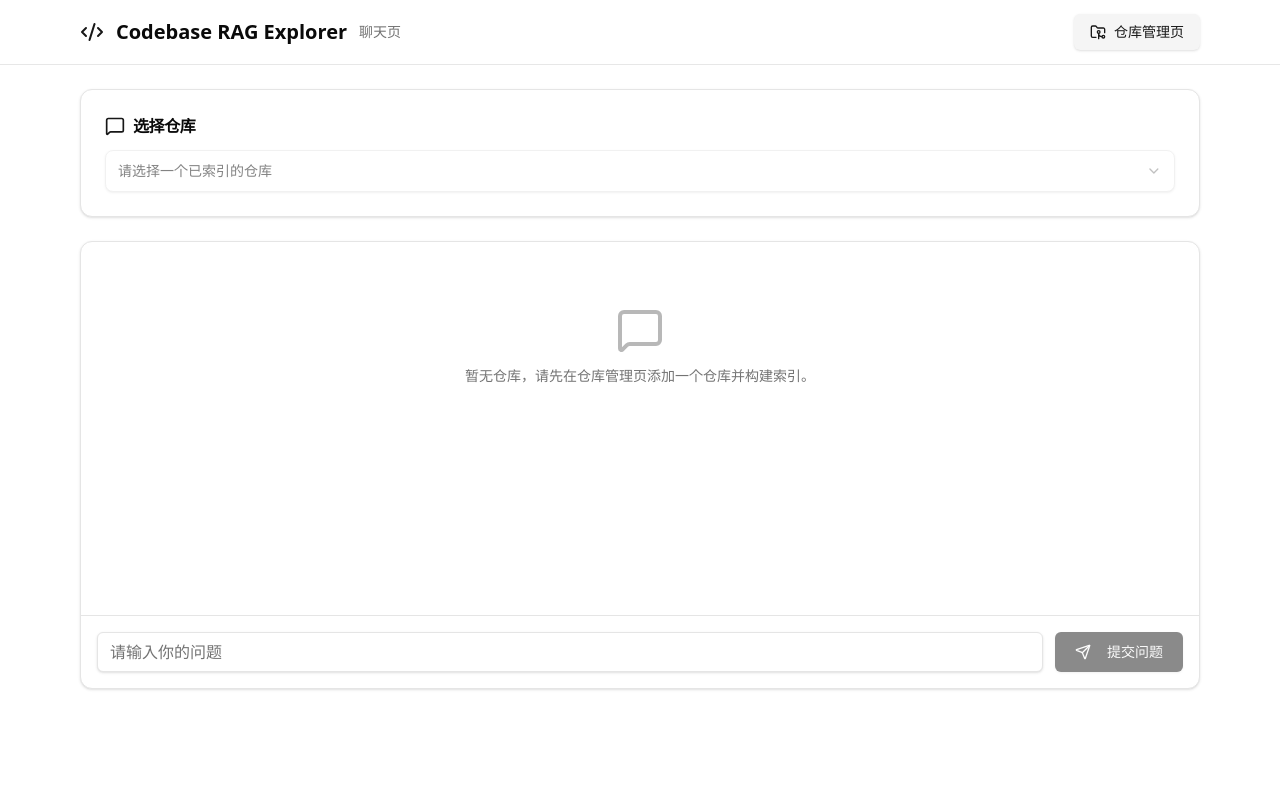
Test case: ChatPage › saves user message and assistant response to chat history
Expected: the dropdown is shown, [105, 150, 1175, 192]
Type "New question" into the field with placeholder "请输入你的问题" at coordinates (570, 652), box [97, 632, 1043, 672]
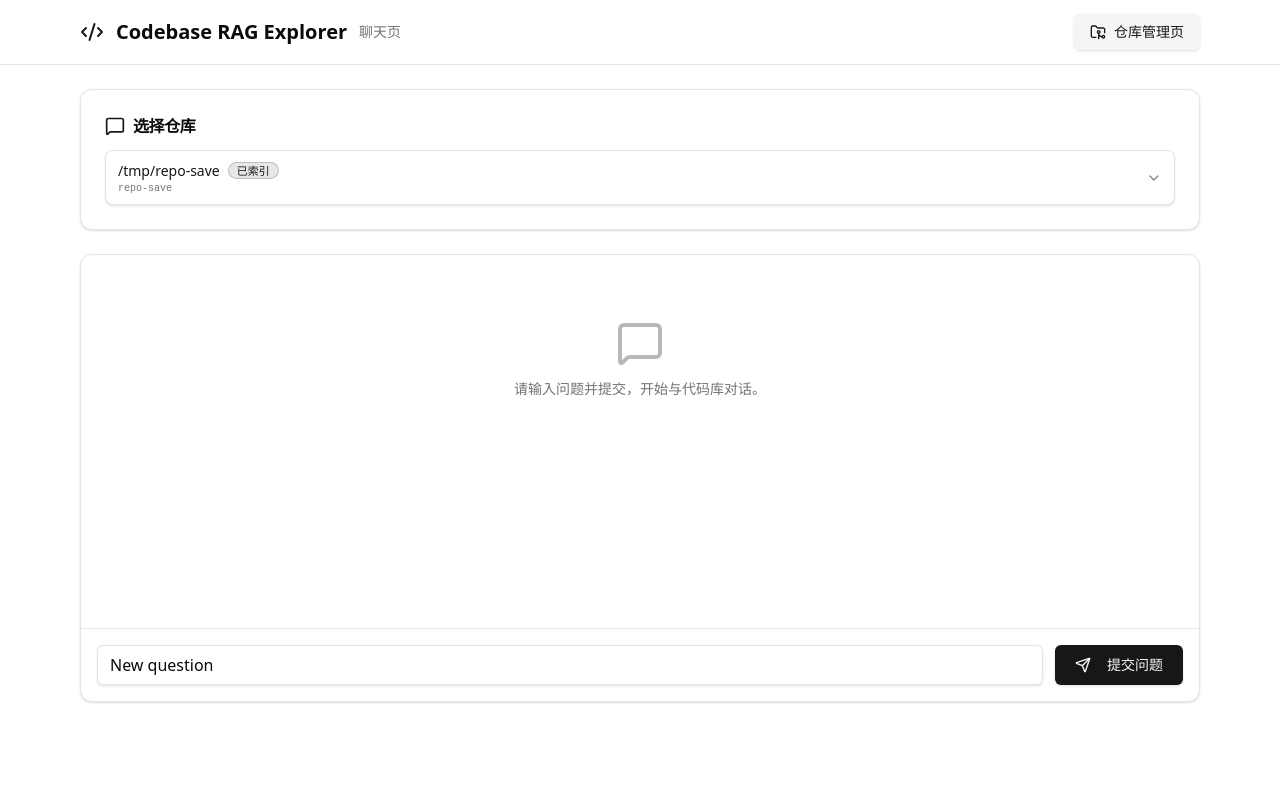
Click the button "提交问题" at coordinates (1119, 665), box [1055, 645, 1183, 685]
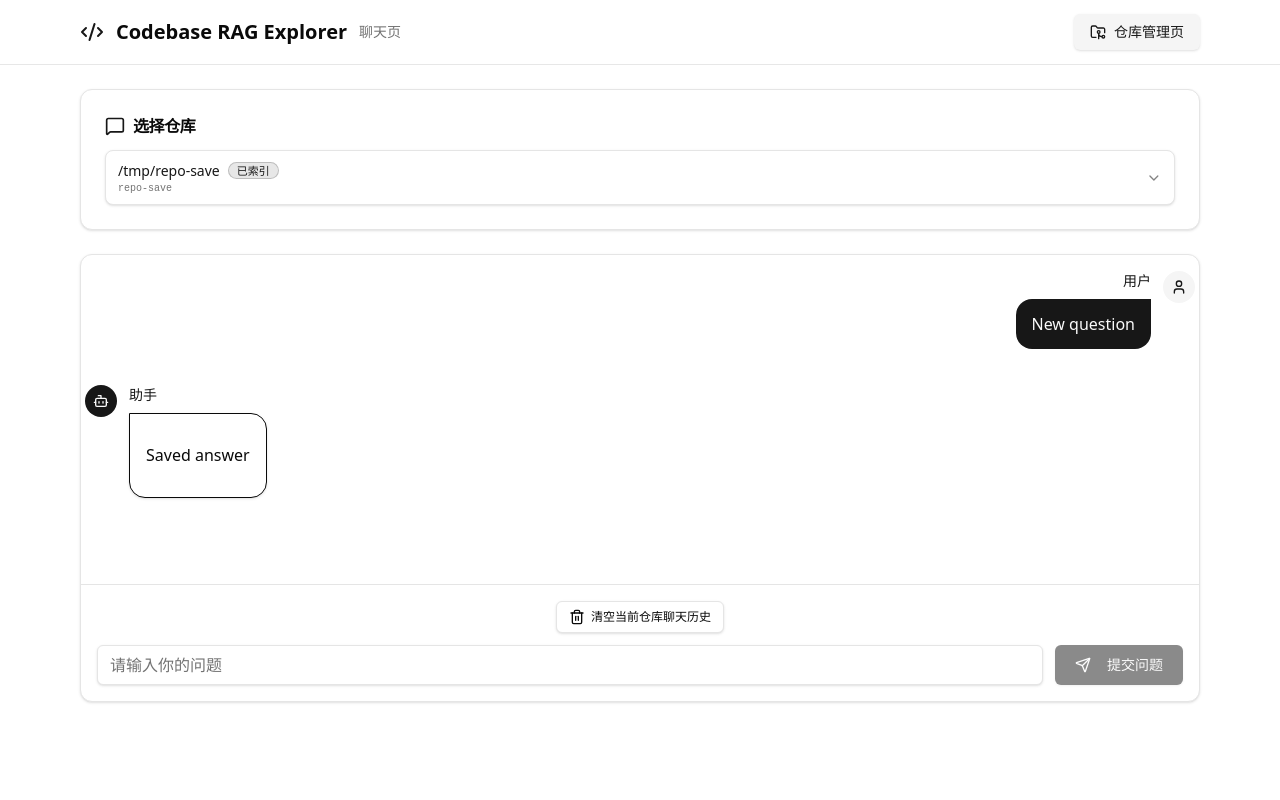
Result: the text "New question" is shown at [1032, 311, 1135, 337]
Result: the text "Saved answer" is shown at [146, 442, 250, 470]
